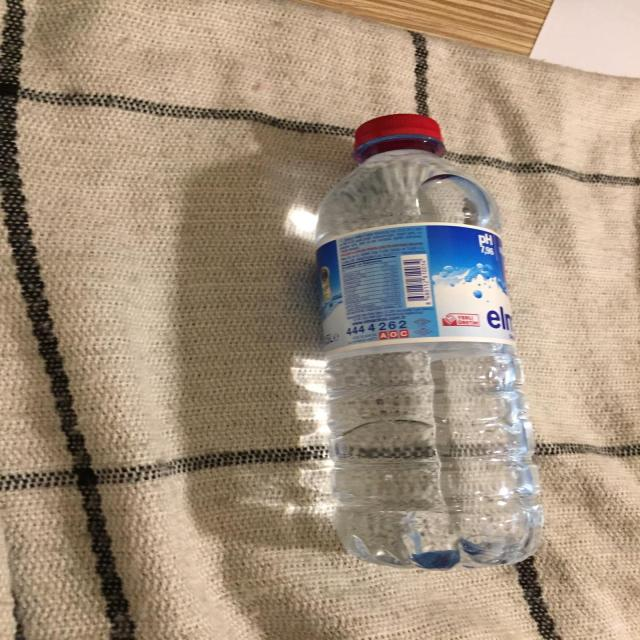bottle: (312, 112, 544, 571)
